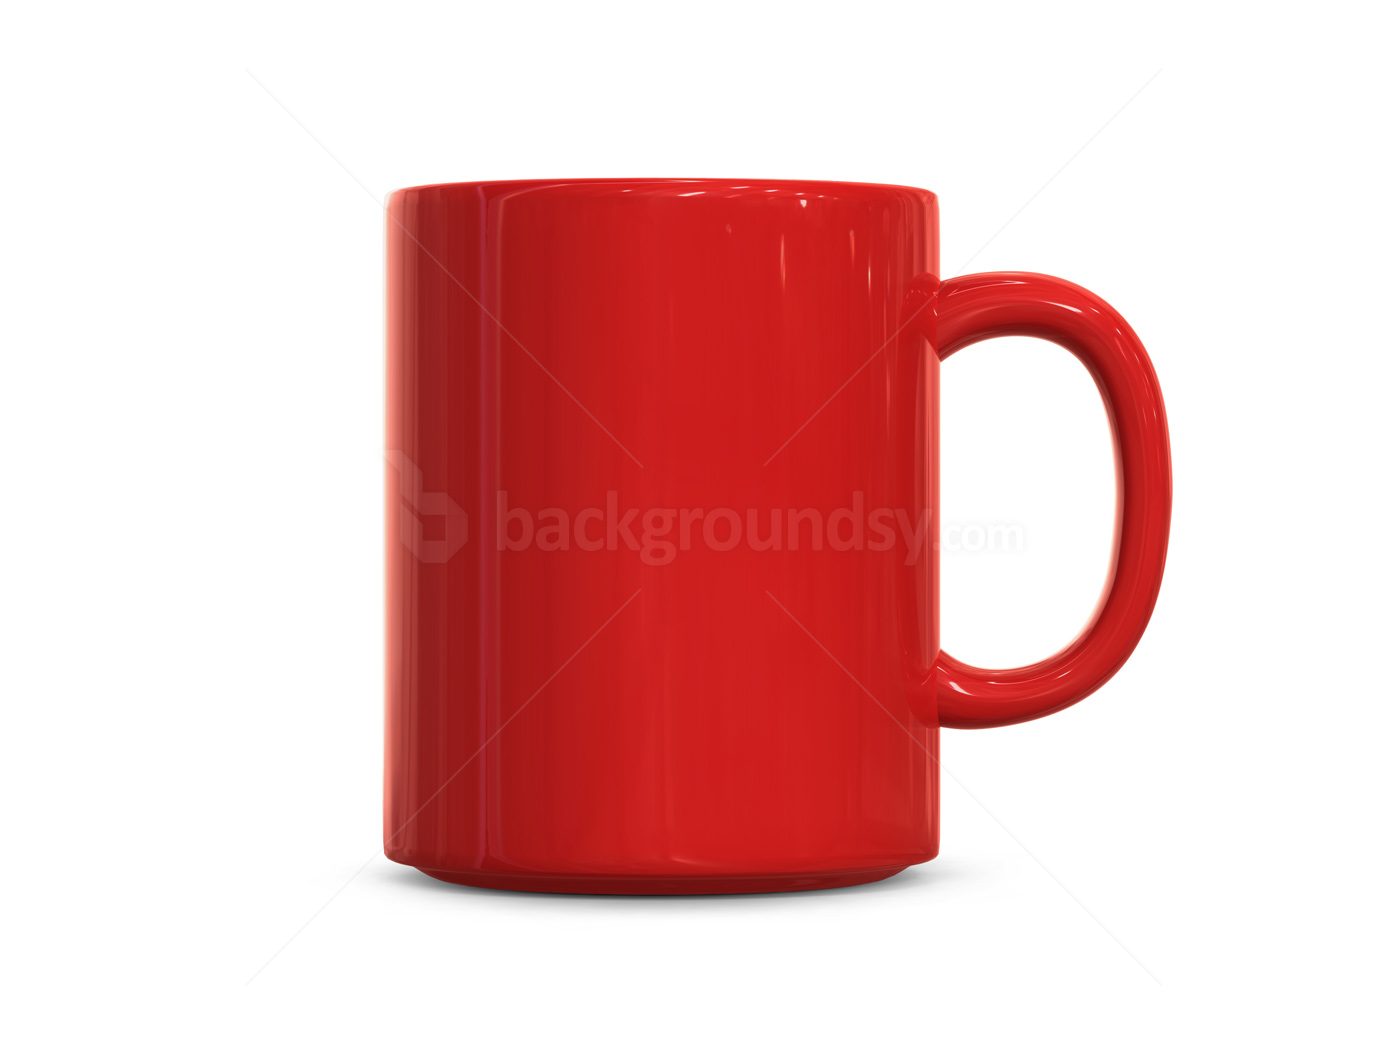cup: (374, 160, 1182, 902)
